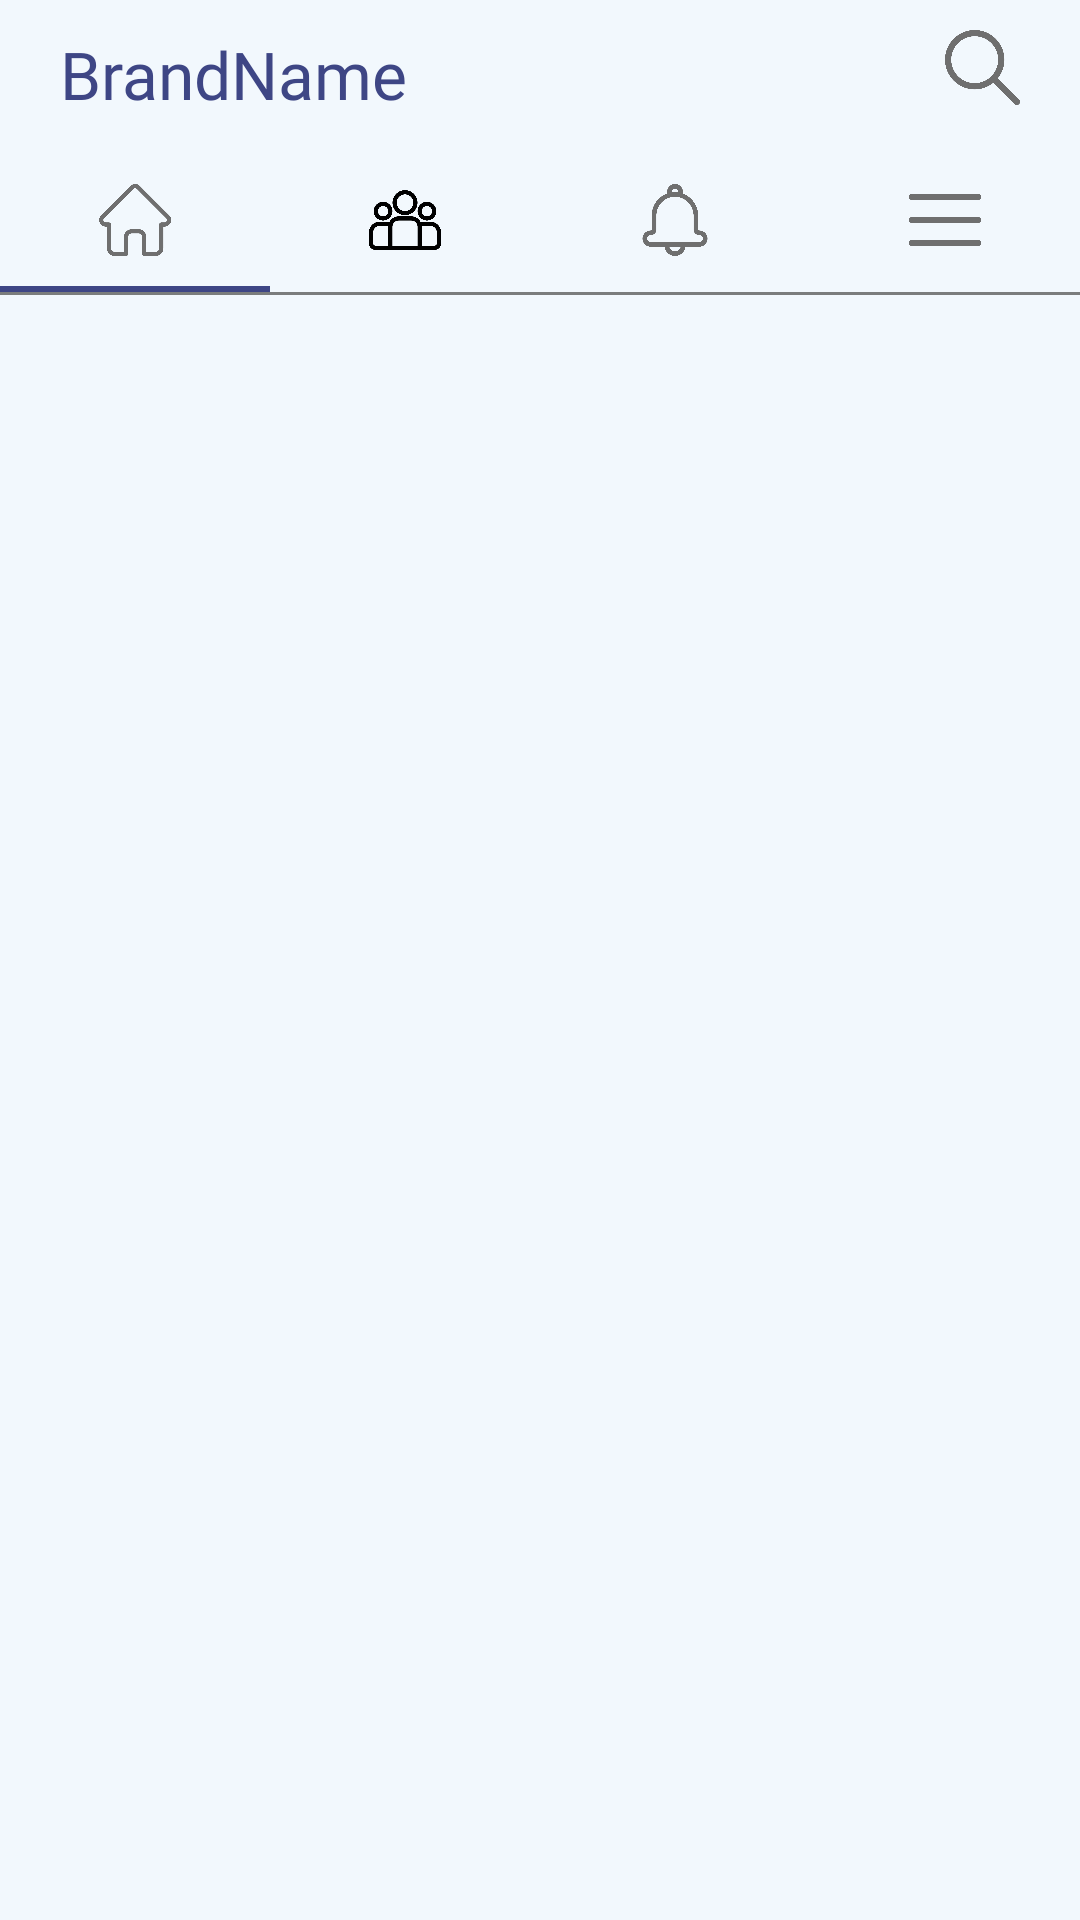

Icon click points for this 1080*1920 phone screenshot, format [x,y]:
loupe: [982,67]
